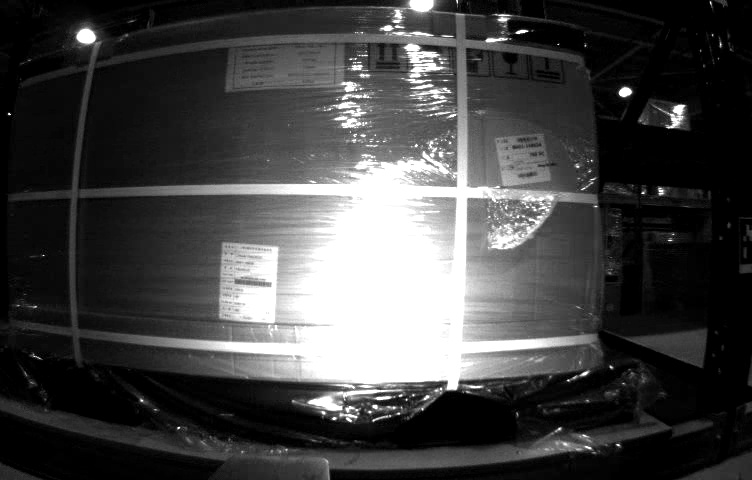True Barcode: (494, 128, 557, 188)
